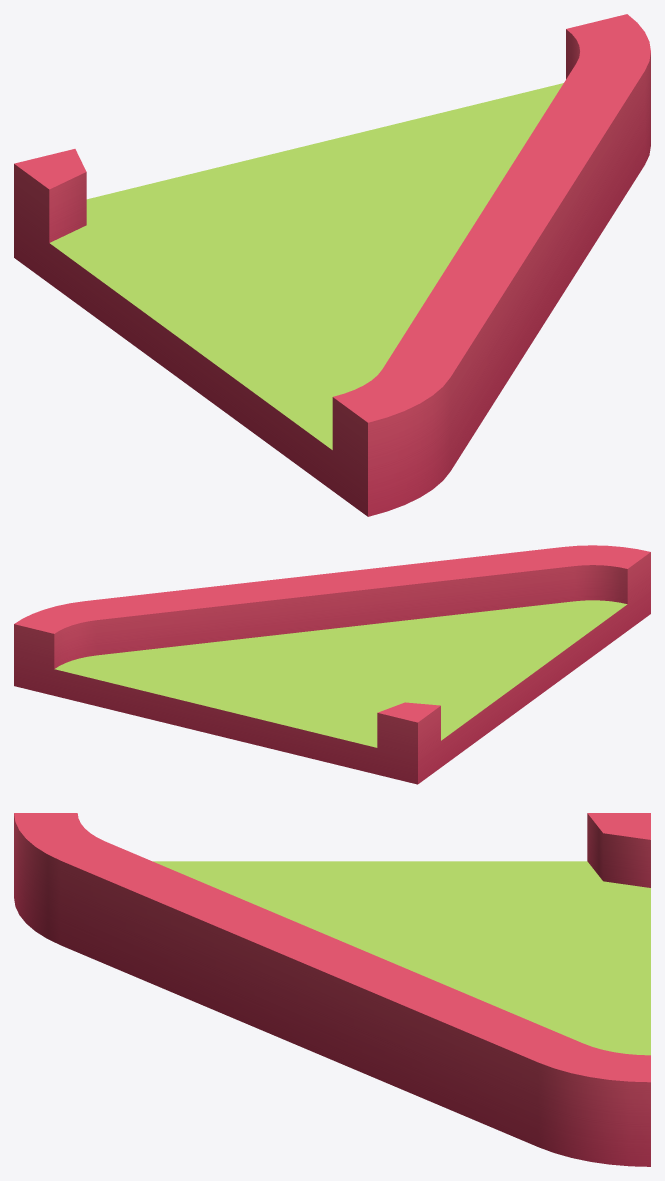
File: skew-corner.fbx
The picture shows the model from 3 angles, top to bottom: view 1: azimuth 30°, elevation 25°; view 2: azimuth 150°, elevation 25°; view 3: azimuth 270°, elevation 25°; orthographic projection. The views are drawn at different scales.
Parts seen in each view (by area): view 1: skew_corner; view 2: skew_corner; view 3: skew_corner.
Boxes of the visible parts, x1,y1,x2,y2 form: skew_corner: (14,14,650,516); skew_corner: (14,545,650,784); skew_corner: (14,813,650,1166).
Bounding box in the file's own units: 99.99 × 14.67 × 99.99.
